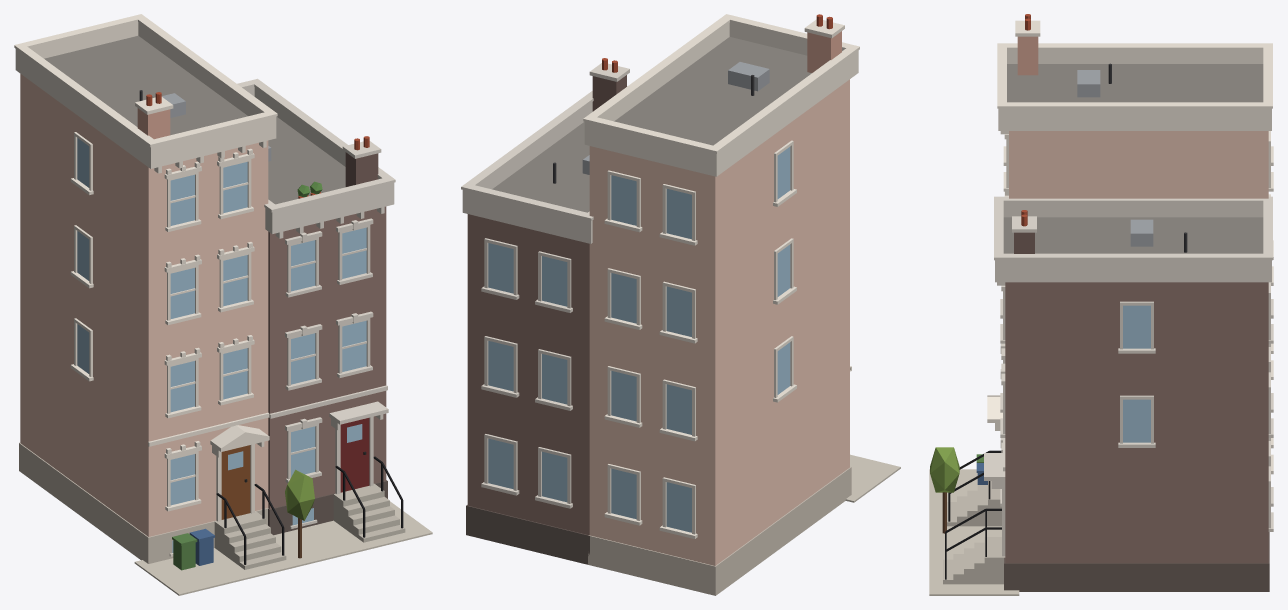
The model's file is SiraEv_karisik_1_4_Hafif.fbx.
The picture shows the model from 3 angles, left to right: view 1: azimuth 30°, elevation 25°; view 2: azimuth 150°, elevation 25°; view 3: azimuth 270°, elevation 25°; orthographic projection. The views are drawn at different scales.
Parts seen in each view (by area): view 1: SiraEv_karisik_1_4_Hafif; view 2: SiraEv_karisik_1_4_Hafif; view 3: SiraEv_karisik_1_4_Hafif.
Boxes of the visible parts, left/top/right/bottom form: SiraEv_karisik_1_4_Hafif: left=14, top=14, right=432, bottom=595; SiraEv_karisik_1_4_Hafif: left=461, top=14, right=900, bottom=595; SiraEv_karisik_1_4_Hafif: left=929, top=14, right=1273, bottom=595.
Size of the model in its own units: 8.55 by 14.82 by 9.95.
